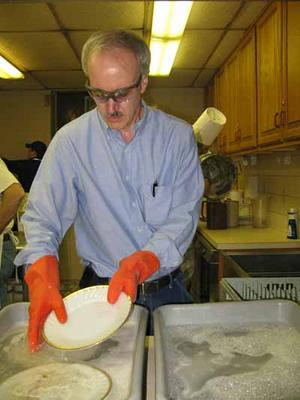person: (16, 26, 206, 357)
